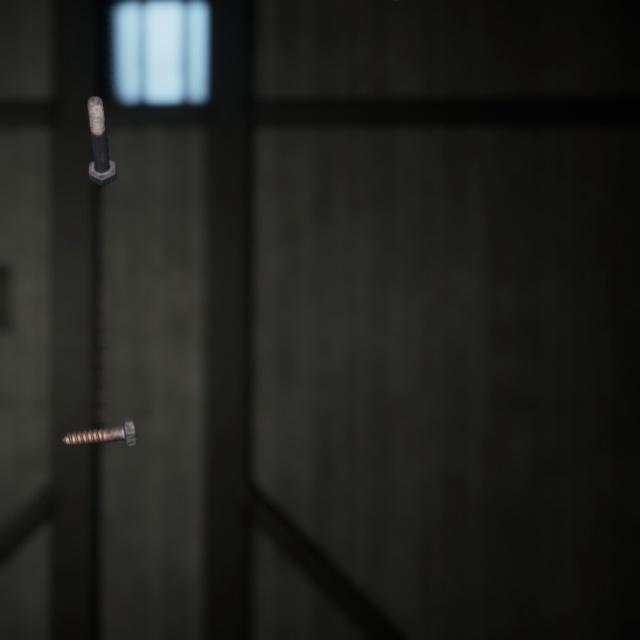bolt: (83, 78, 120, 177), (57, 394, 141, 431)
